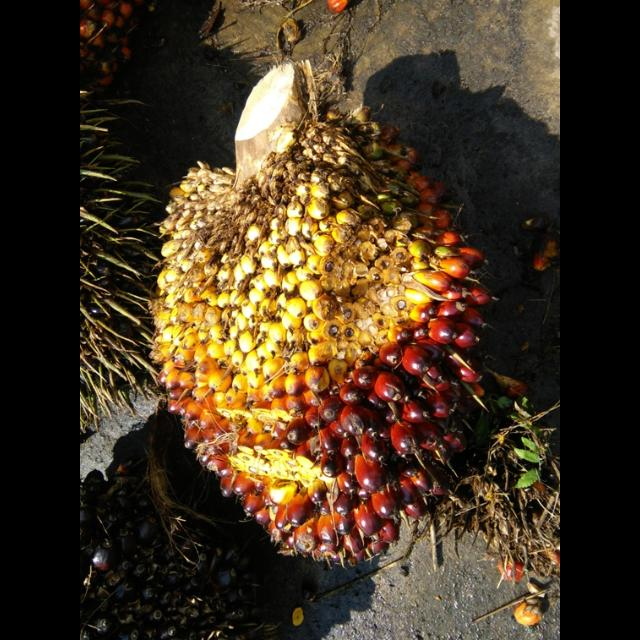Ripe: (150, 62, 548, 573)
